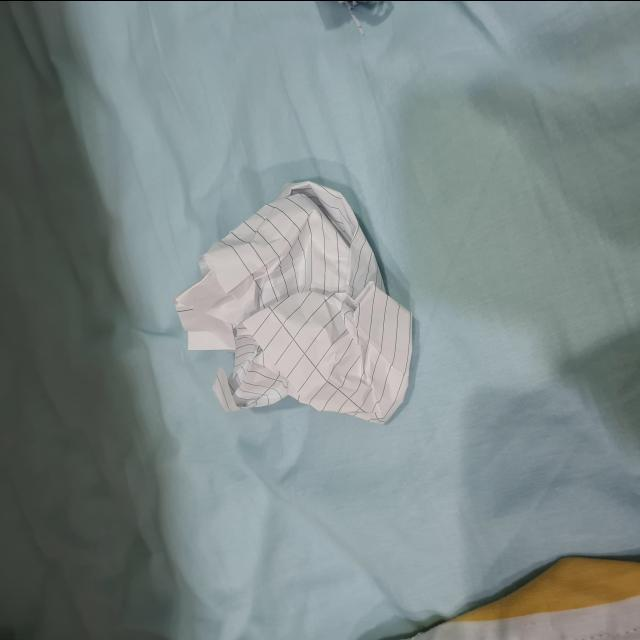Paper: (164, 160, 440, 436)
